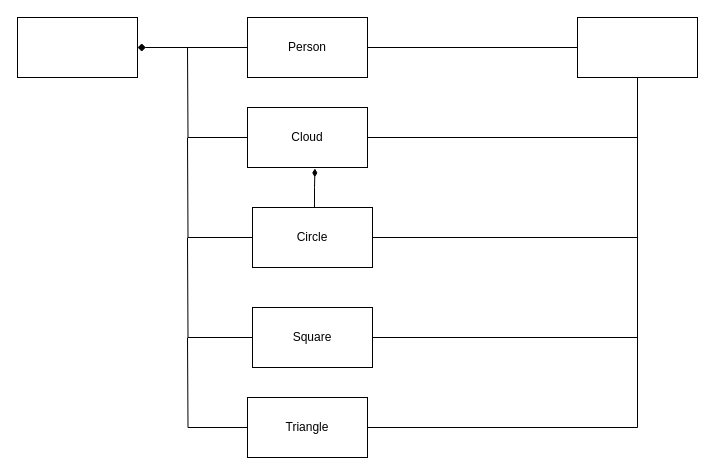
Image size: 715x475. Some labels were removed from this diagram. Here are the shapes that lost their labels. From the top down, the centre of each, then its label:
At [77,47]: "Picture".
At [637,47]: "Canvas".
